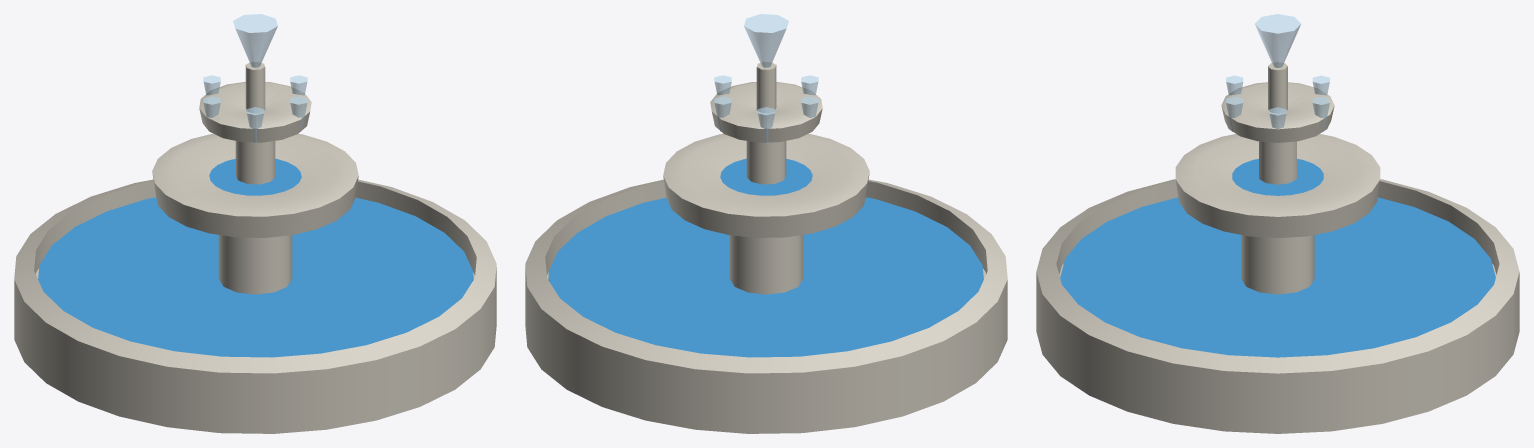
File: fountain.glb
3 renders of one model, left to right at view 1: azimuth 30°, elevation 25°; view 2: azimuth 150°, elevation 25°; view 3: azimuth 270°, elevation 25°, orthographic.
Visible parts, largest first — view 1: root; view 2: root; view 3: root.
Boxes of the visible parts, x1,y1,x2,y2 form: root: [14, 14, 496, 433]; root: [525, 14, 1007, 433]; root: [1036, 14, 1519, 433].
Bounding box in the file's own units: 2.9 × 2.04 × 2.9.
